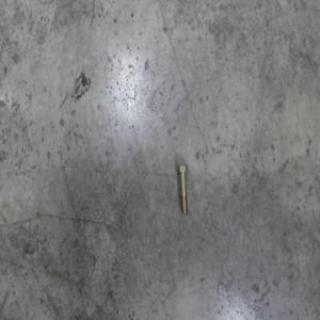Bolttrack_idkeyframe: (173, 162, 186, 214)
